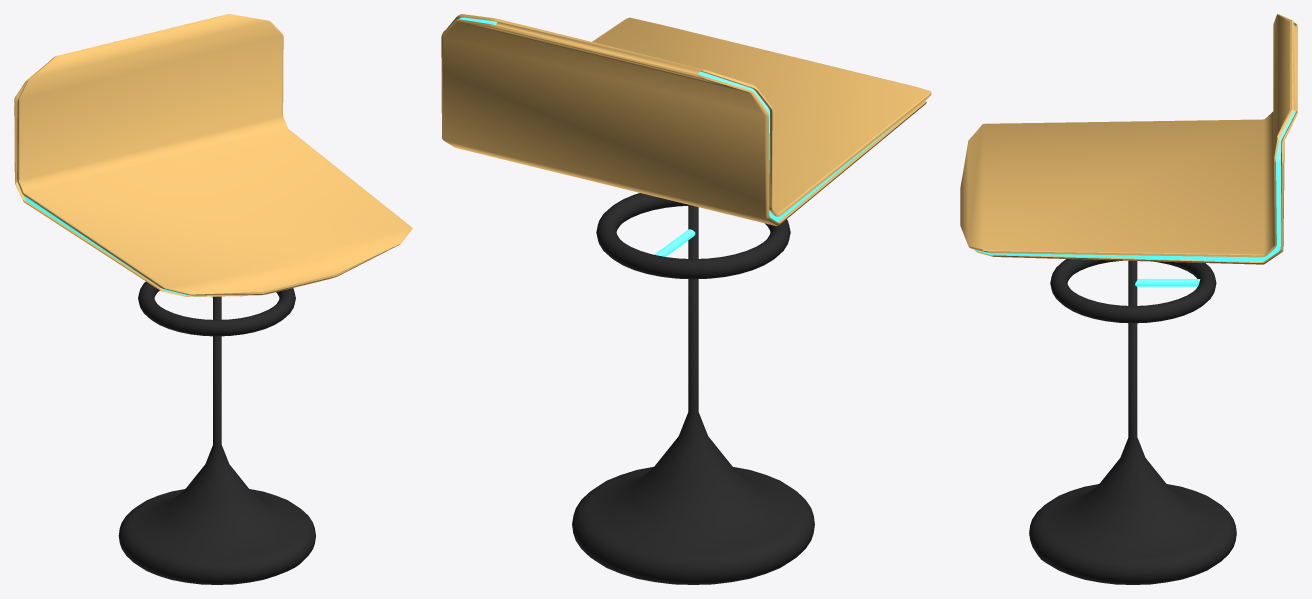
File: chaise.fbx
The picture shows the model from 3 angles, left to right: view 1: azimuth 30°, elevation 25°; view 2: azimuth 150°, elevation 25°; view 3: azimuth 270°, elevation 25°; orthographic projection. The views are drawn at different scales.
Visible parts, largest first — view 1: Box001, Torus001, Torus002; view 2: Box001, Torus001, Torus002; view 3: Box001, Torus001, Torus002, Cylinder002.
Part boxes in pixels (x1=…): Box001: x1=14, y1=14, x2=412, y2=296; Torus001: x1=118, y1=296, x2=315, y2=584; Torus002: x1=138, y1=281, x2=295, y2=336; Box001: x1=441, y1=14, x2=931, y2=225; Torus001: x1=572, y1=204, x2=814, y2=584; Torus002: x1=596, y1=193, x2=790, y2=279; Box001: x1=960, y1=14, x2=1297, y2=264; Torus001: x1=1029, y1=261, x2=1236, y2=584; Torus002: x1=1050, y1=259, x2=1216, y2=323; Cylinder002: x1=1135, y1=279, x2=1200, y2=286.
Size of the model in its own units: 44.86 by 73.84 by 46.87.
